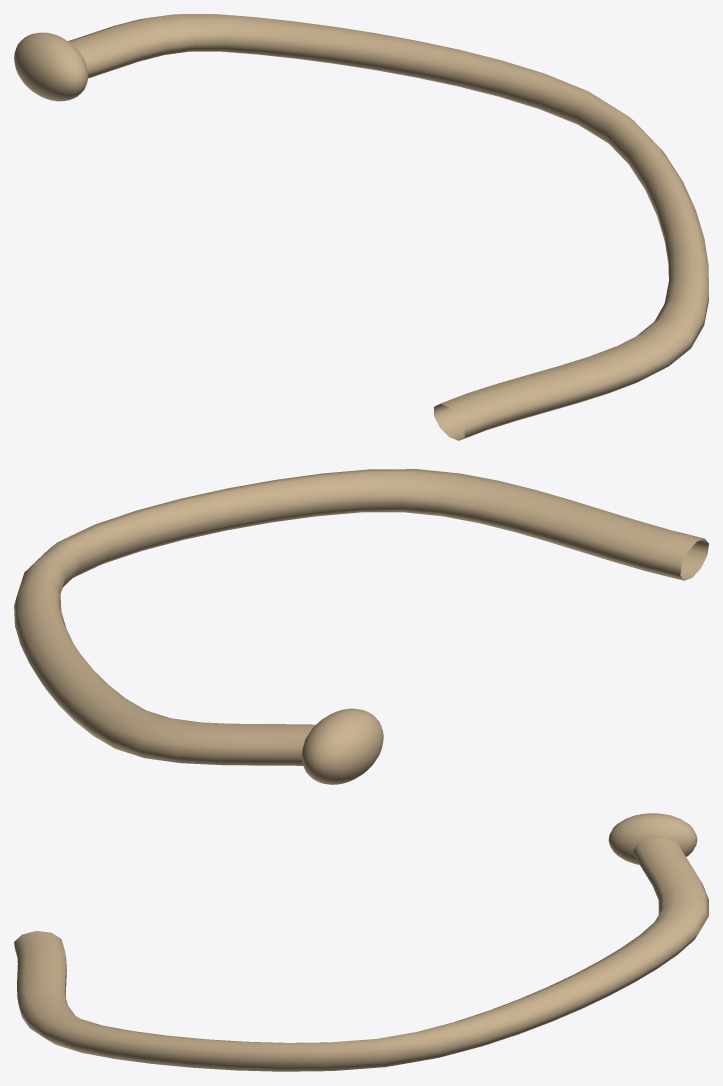
Rendered from left_rib_1.glb.
3 views of the same model, one above another, from view 1: azimuth 30°, elevation 25°; view 2: azimuth 150°, elevation 25°; view 3: azimuth 270°, elevation 25° (orthographic). The views are drawn at different scales.
Parts seen in each view (by area): view 1: left_rib_1:costal-body, left_rib_1:head; view 2: left_rib_1:costal-body, left_rib_1:head; view 3: left_rib_1:costal-body, left_rib_1:head.
Boxes of the visible parts, box(x1,y1,x2,y2) form: left_rib_1:costal-body: box(68, 14, 708, 440); left_rib_1:head: box(14, 32, 88, 101); left_rib_1:costal-body: box(14, 469, 708, 765); left_rib_1:head: box(301, 708, 383, 784); left_rib_1:costal-body: box(14, 838, 708, 1071); left_rib_1:head: box(608, 813, 697, 864).
Size of the model in its own units: 0.5568 by 0.1728 by 0.864.
